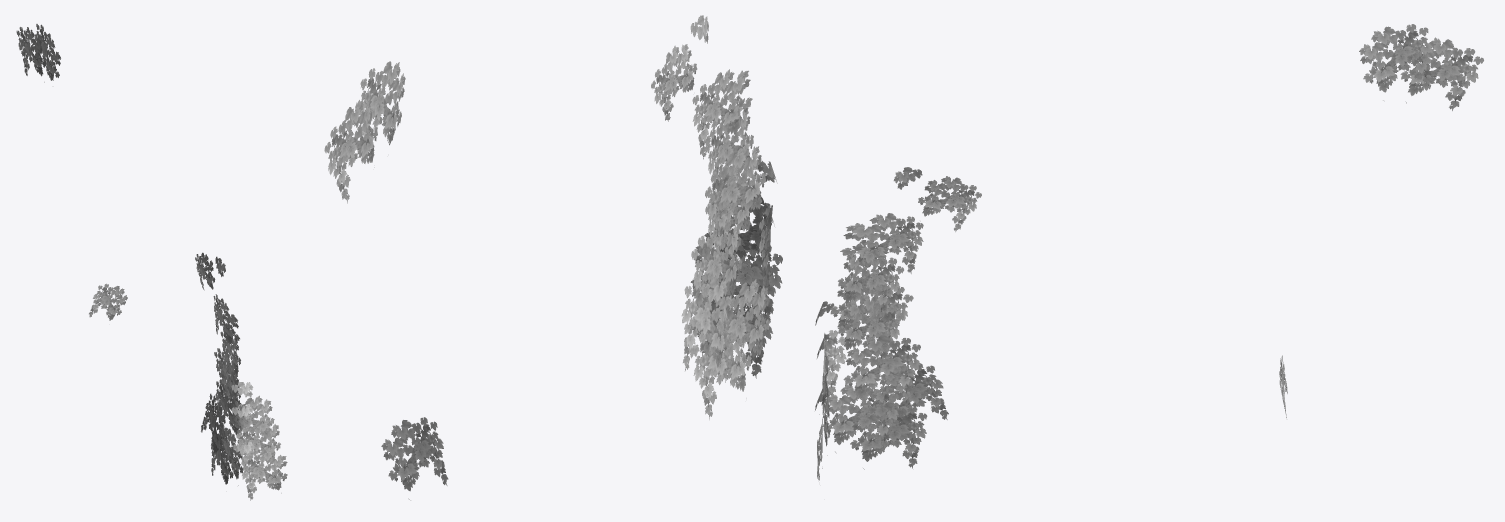
The model's file is Forest_building_056_16.fbx.
3 renders of one model, left to right at view 1: azimuth 30°, elevation 25°; view 2: azimuth 150°, elevation 25°; view 3: azimuth 270°, elevation 25°, orthographic. The views are drawn at different scales.
Parts seen in each view (by area): view 1: Forest_building_056_16; view 2: Forest_building_056_16; view 3: Forest_building_056_16.
Part boxes in pixels (bbox=[...]): Forest_building_056_16: bbox=[16, 24, 287, 500]; Forest_building_056_16: bbox=[324, 15, 782, 500]; Forest_building_056_16: bbox=[815, 24, 1483, 480].
Bounding box in the file's own units: 328 × 1605 × 2067.
Materials: 1 (1 with a texture image).
